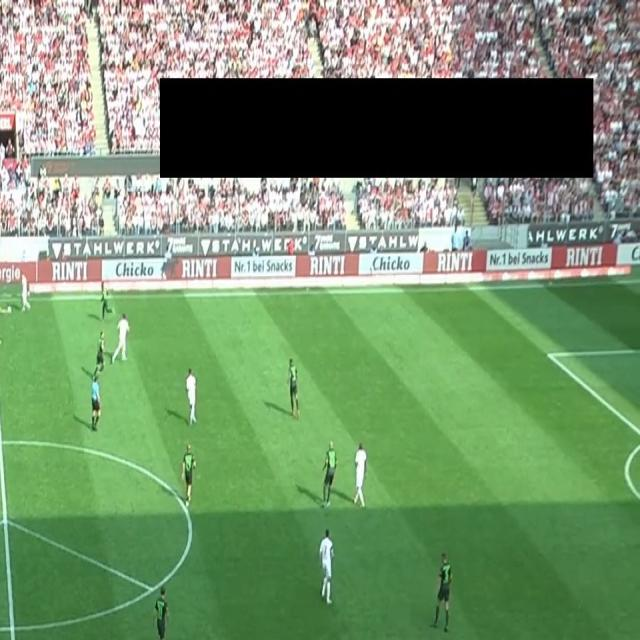ball: (6, 303, 12, 314)
